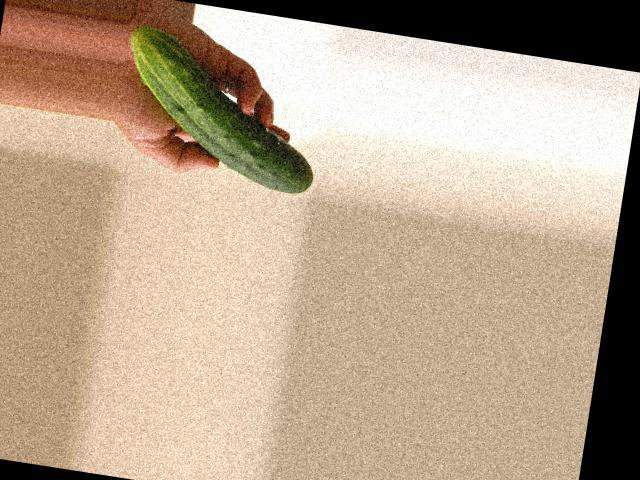cucumber: (112, 23, 332, 195)
